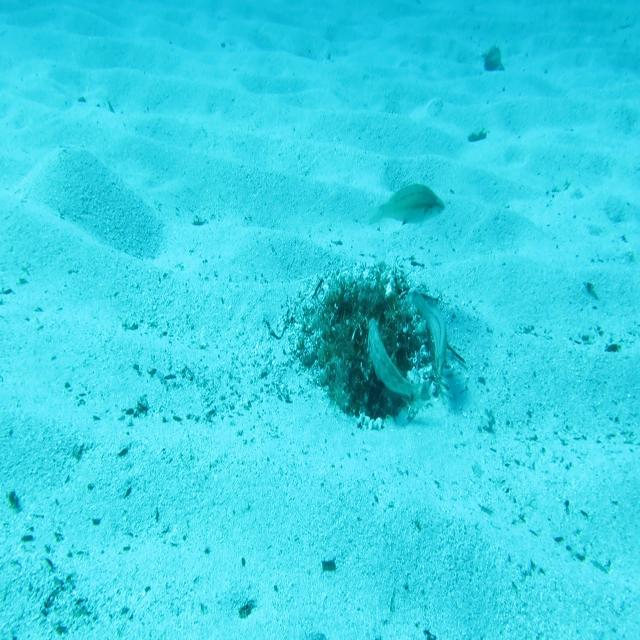DAN_CIRC: (367, 316, 432, 420)
core_nest: (351, 292, 396, 327)
female: (365, 182, 446, 227), (411, 289, 447, 376)
nest: (284, 250, 454, 436)
vegetation: (480, 41, 505, 76), (235, 594, 254, 622), (469, 124, 489, 144), (320, 557, 336, 572)
